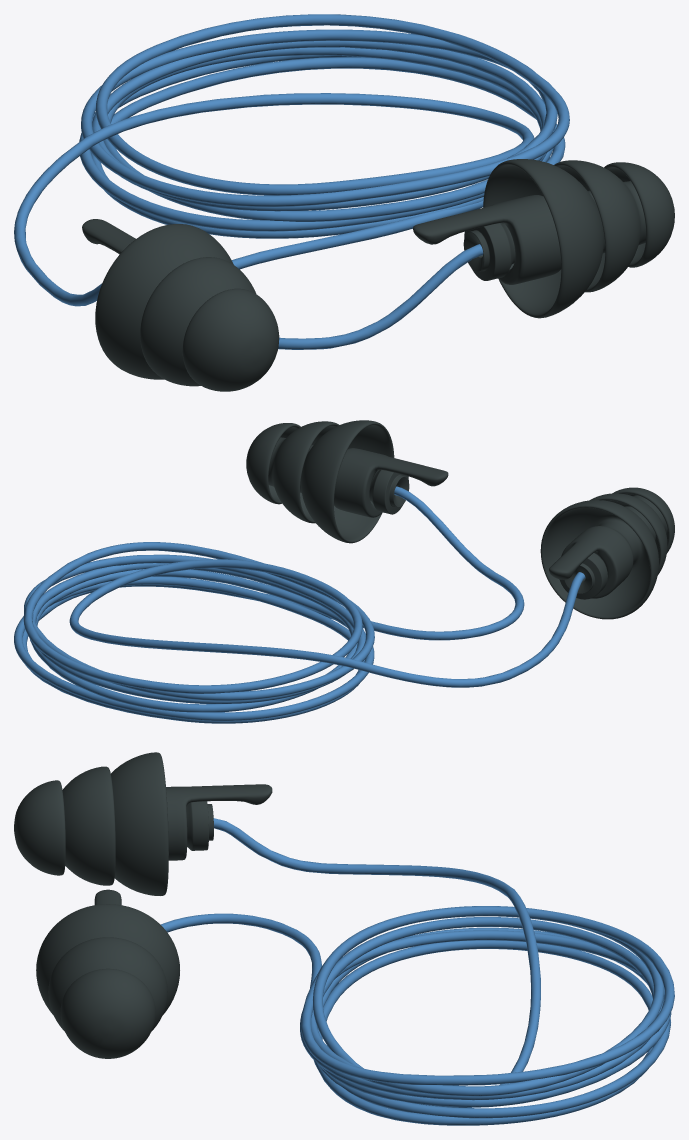
The model's file is ppe_hearingProtection_earPlugs_a01.glb.
3 views of the same model, one above another, from view 1: azimuth 30°, elevation 25°; view 2: azimuth 150°, elevation 25°; view 3: azimuth 270°, elevation 25° (orthographic). The views are drawn at different scales.
Size of the model in its own units: 0.1346 by 0.0306 by 0.1402.
